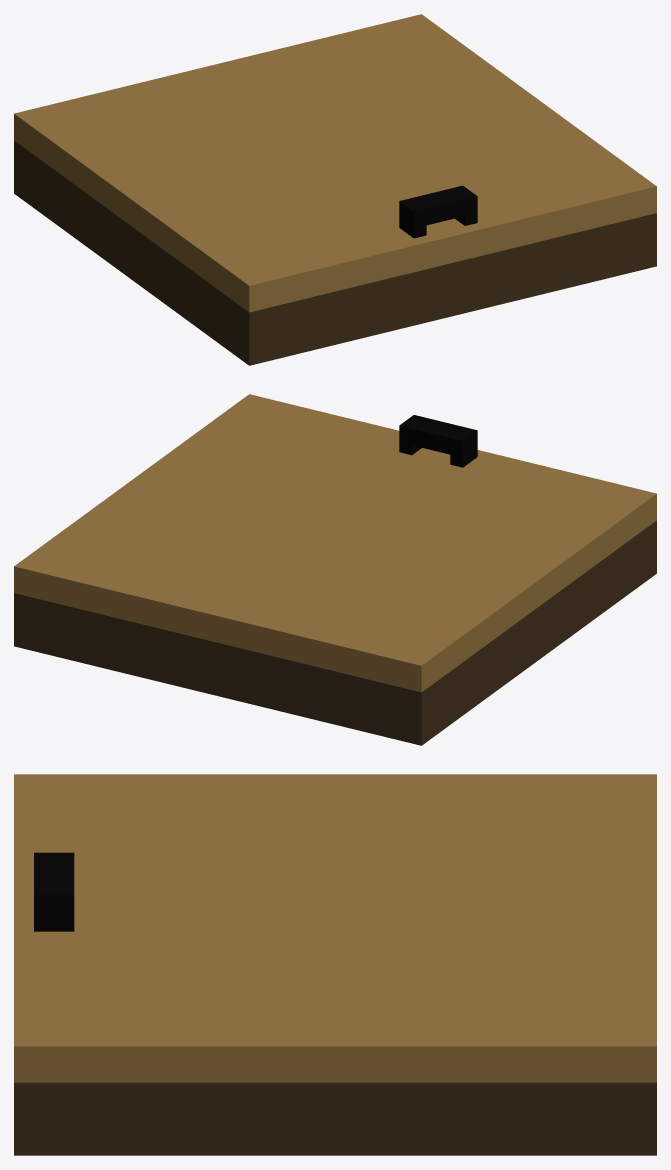
The model's file is trapdoor.fbx.
The picture shows the model from 3 angles, top to bottom: view 1: azimuth 30°, elevation 25°; view 2: azimuth 150°, elevation 25°; view 3: azimuth 270°, elevation 25°; orthographic projection. The views are drawn at different scales.
Visible parts, largest first — view 1: cuboid_1, cuboid, cuboid_2; view 2: cuboid_1, cuboid, cuboid_2; view 3: cuboid_1, cuboid, cuboid_2.
Part boxes in pixels (x1,y1,x2,y2): cuboid_1: (14,14,656,312); cuboid: (14,140,656,365); cuboid_2: (399,185,477,238); cuboid_1: (14,394,656,692); cuboid: (14,520,656,745); cuboid_2: (399,415,477,467); cuboid_1: (14,774,656,1082); cuboid: (14,1082,656,1155); cuboid_2: (34,852,74,931).
Bounding box in the file's own units: 100 × 25 × 100.
Materials: 1 (1 with a texture image).
